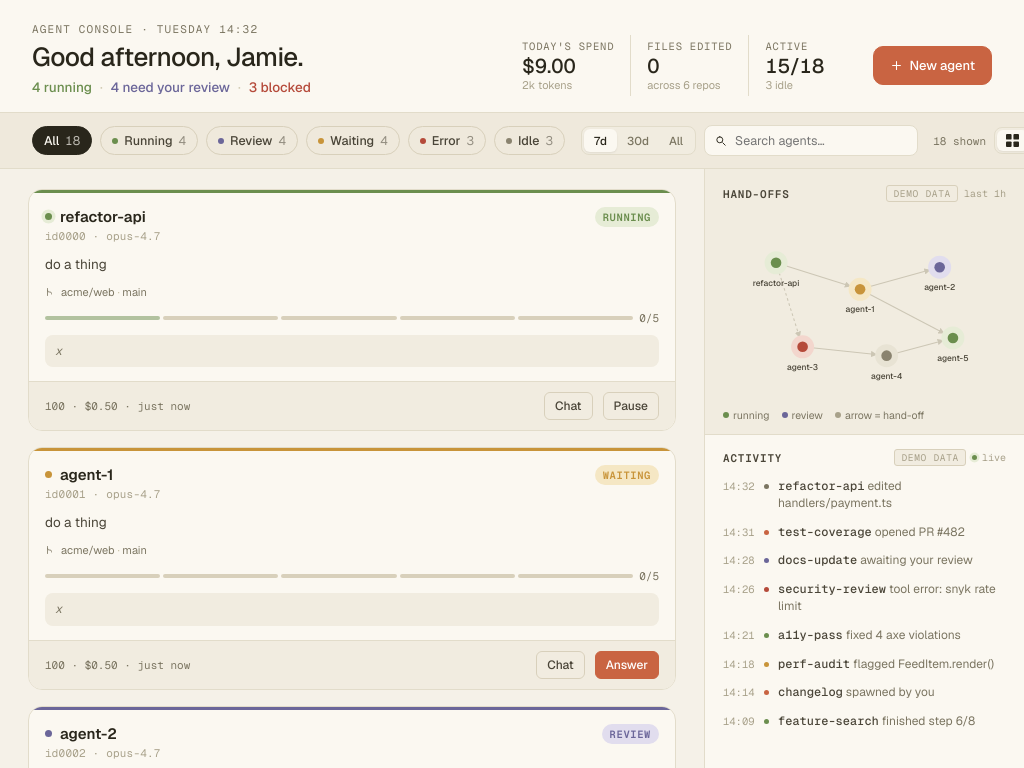
it: FilterRow › 13. 검색어 X 버튼 클릭 → query 비움
Expected: the text "18 shown" is shown, 926,134 -> 986,148
Type "zzz" into the field with placeholder "Search agents…".
click(820, 140); type("zzz")  # box 733,131 -> 907,150
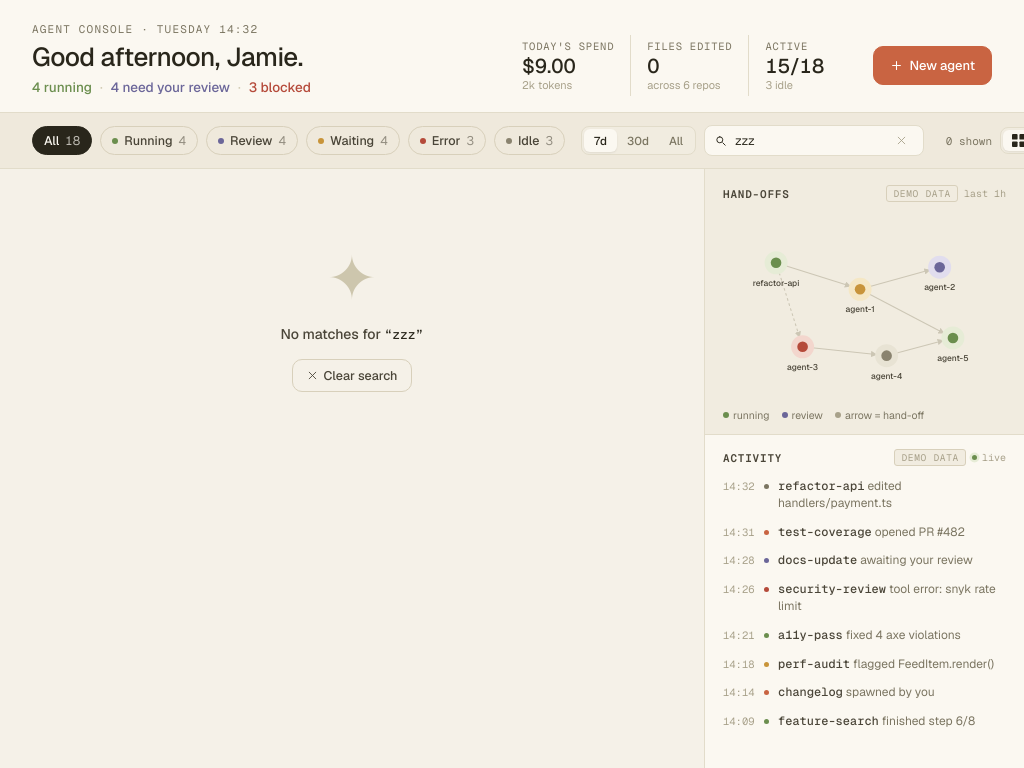
Click the button named "Clear search".
click(902, 140)  # box 890,134 -> 913,147
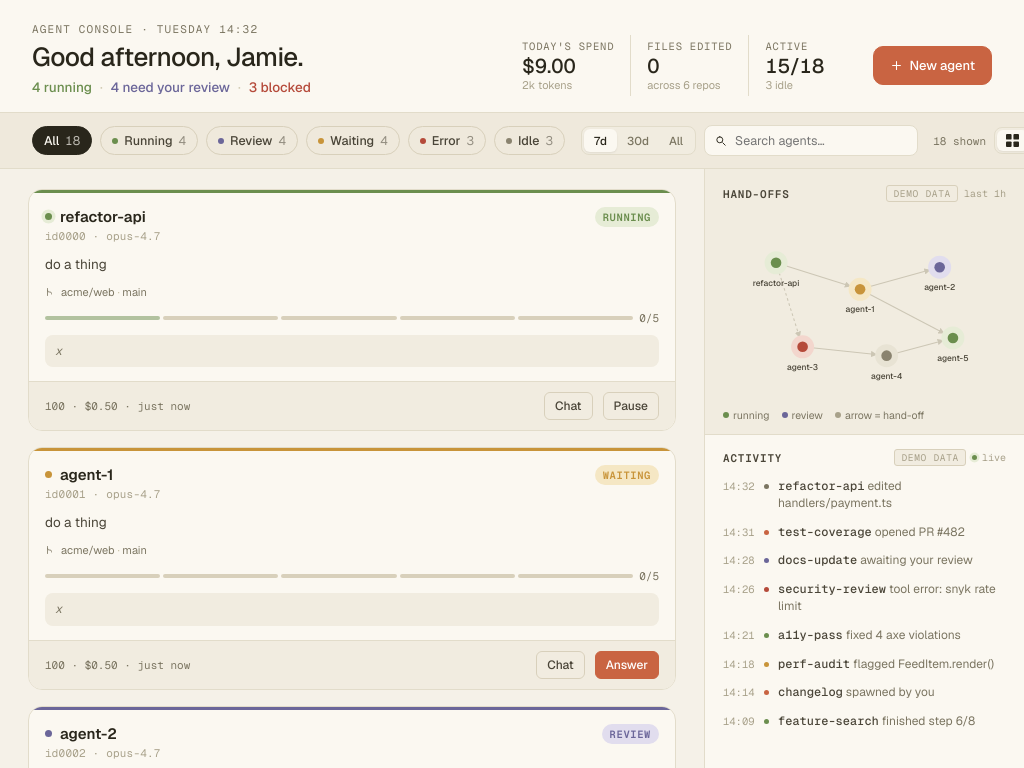
Result: the field with placeholder "Search agents…" is empty at 733,131 -> 907,150
